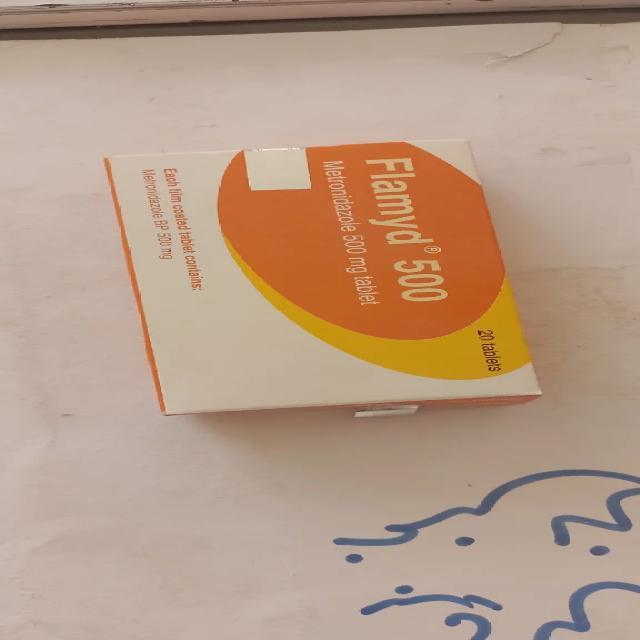drug-name: (362, 153, 440, 247)
